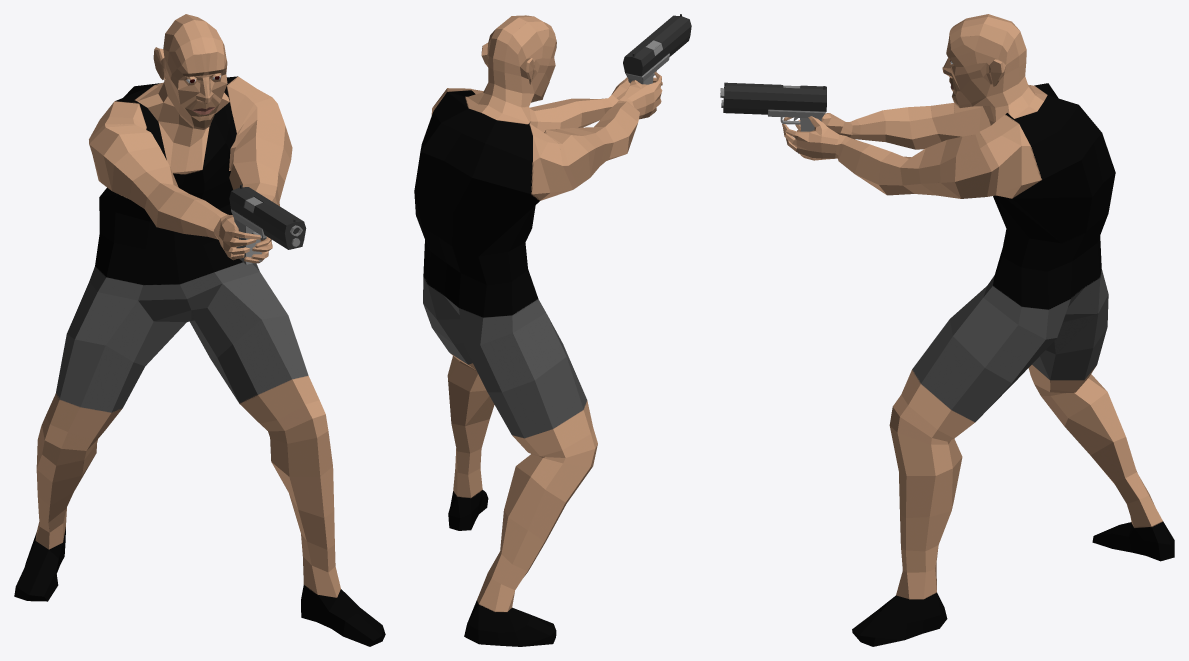
The model's file is PlayerShoot(6).obj.
3 views of the same model, side by side, from view 1: azimuth 30°, elevation 25°; view 2: azimuth 150°, elevation 25°; view 3: azimuth 270°, elevation 25° (orthographic). The views are drawn at different scales.
Visible parts, largest first — view 1: Plane002, Box003; view 2: Plane002, Box003; view 3: Plane002, Box003.
Boxes of the visible parts, left/top/right/bottom form: Plane002: left=14, top=14, right=385, bottom=646; Box003: left=229, top=184, right=306, bottom=264; Plane002: left=414, top=15, right=662, bottom=646; Box003: left=623, top=14, right=691, bottom=84; Plane002: left=782, top=14, right=1174, bottom=646; Box003: left=720, top=82, right=826, bottom=153.
Bounding box in the file's own units: 716 × 1666 × 1204.
